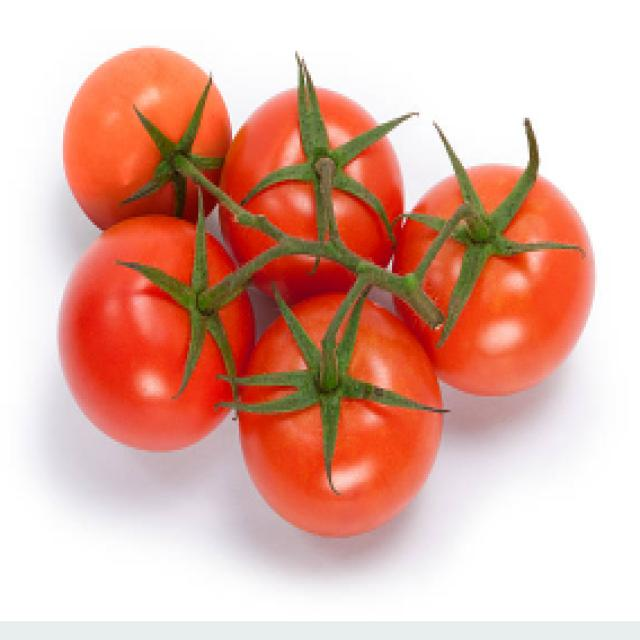Tomato: (27, 184, 269, 450), (223, 267, 444, 544), (399, 142, 612, 412), (213, 78, 418, 304), (62, 38, 247, 241)
